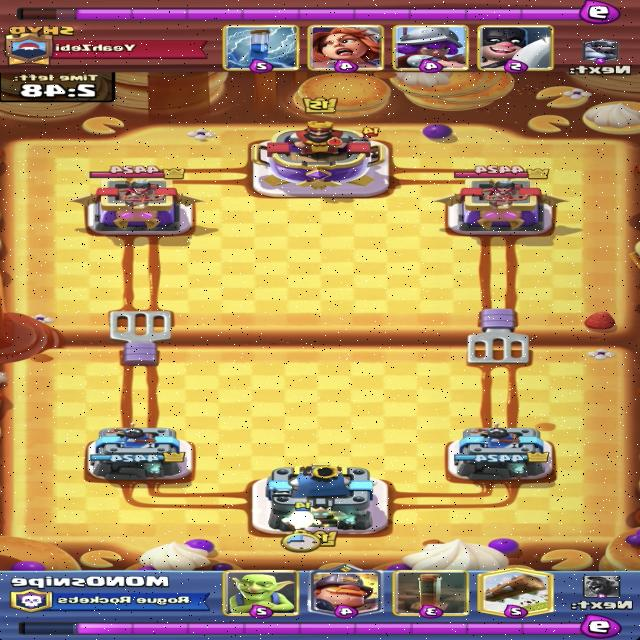Player-IceSpirit: (281, 502, 320, 533)
